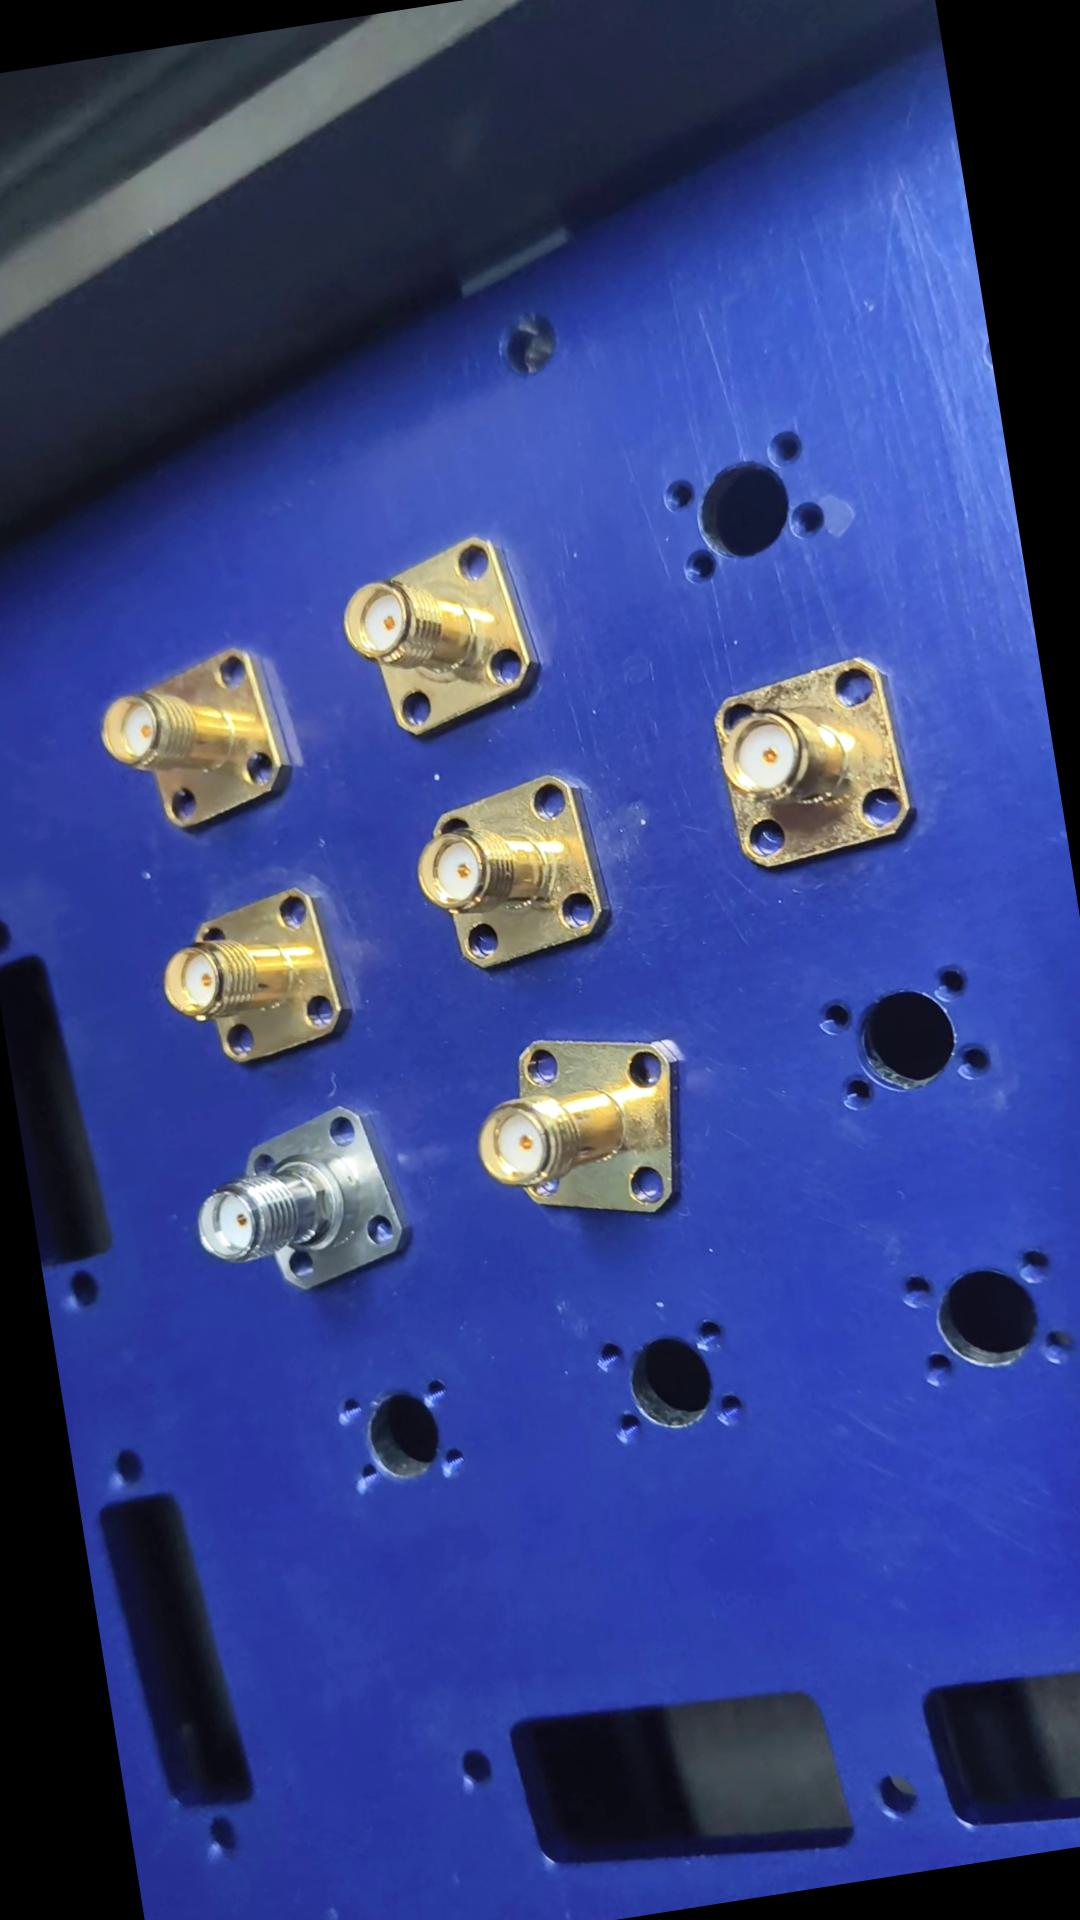SMA: (462, 1013, 709, 1246), (338, 524, 559, 748), (707, 647, 927, 872), (405, 764, 626, 978), (185, 1098, 419, 1299), (94, 642, 307, 845), (154, 882, 363, 1071)
